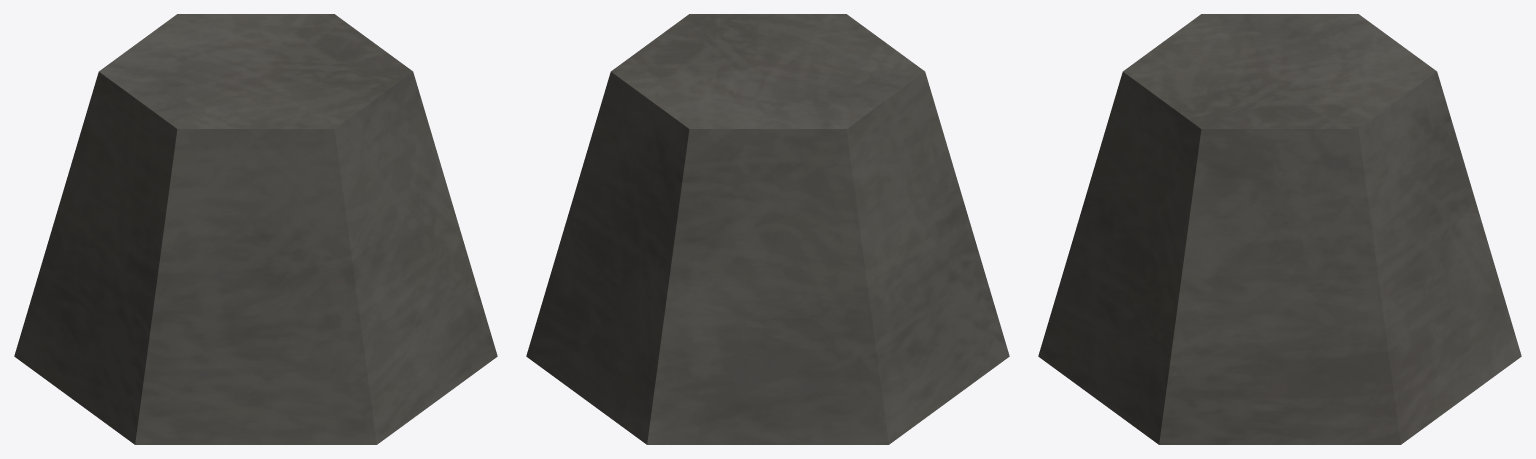
The model's file is ZachMesaRock22.fbx.
3 views of the same model, side by side, from view 1: azimuth 30°, elevation 25°; view 2: azimuth 150°, elevation 25°; view 3: azimuth 270°, elevation 25° (orthographic).
Parts seen in each view (by area): view 1: ZachMesaRock22; view 2: ZachMesaRock22; view 3: ZachMesaRock22.
Part boxes in pixels (<box>): ZachMesaRock22: <box>14,14,497,444</box>; ZachMesaRock22: <box>526,14,1009,444</box>; ZachMesaRock22: <box>1038,14,1521,444</box>.
Size of the model in its own units: 2.66 by 2 by 3.08.
